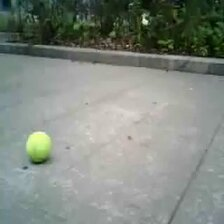tennis: (25, 131, 49, 162)
